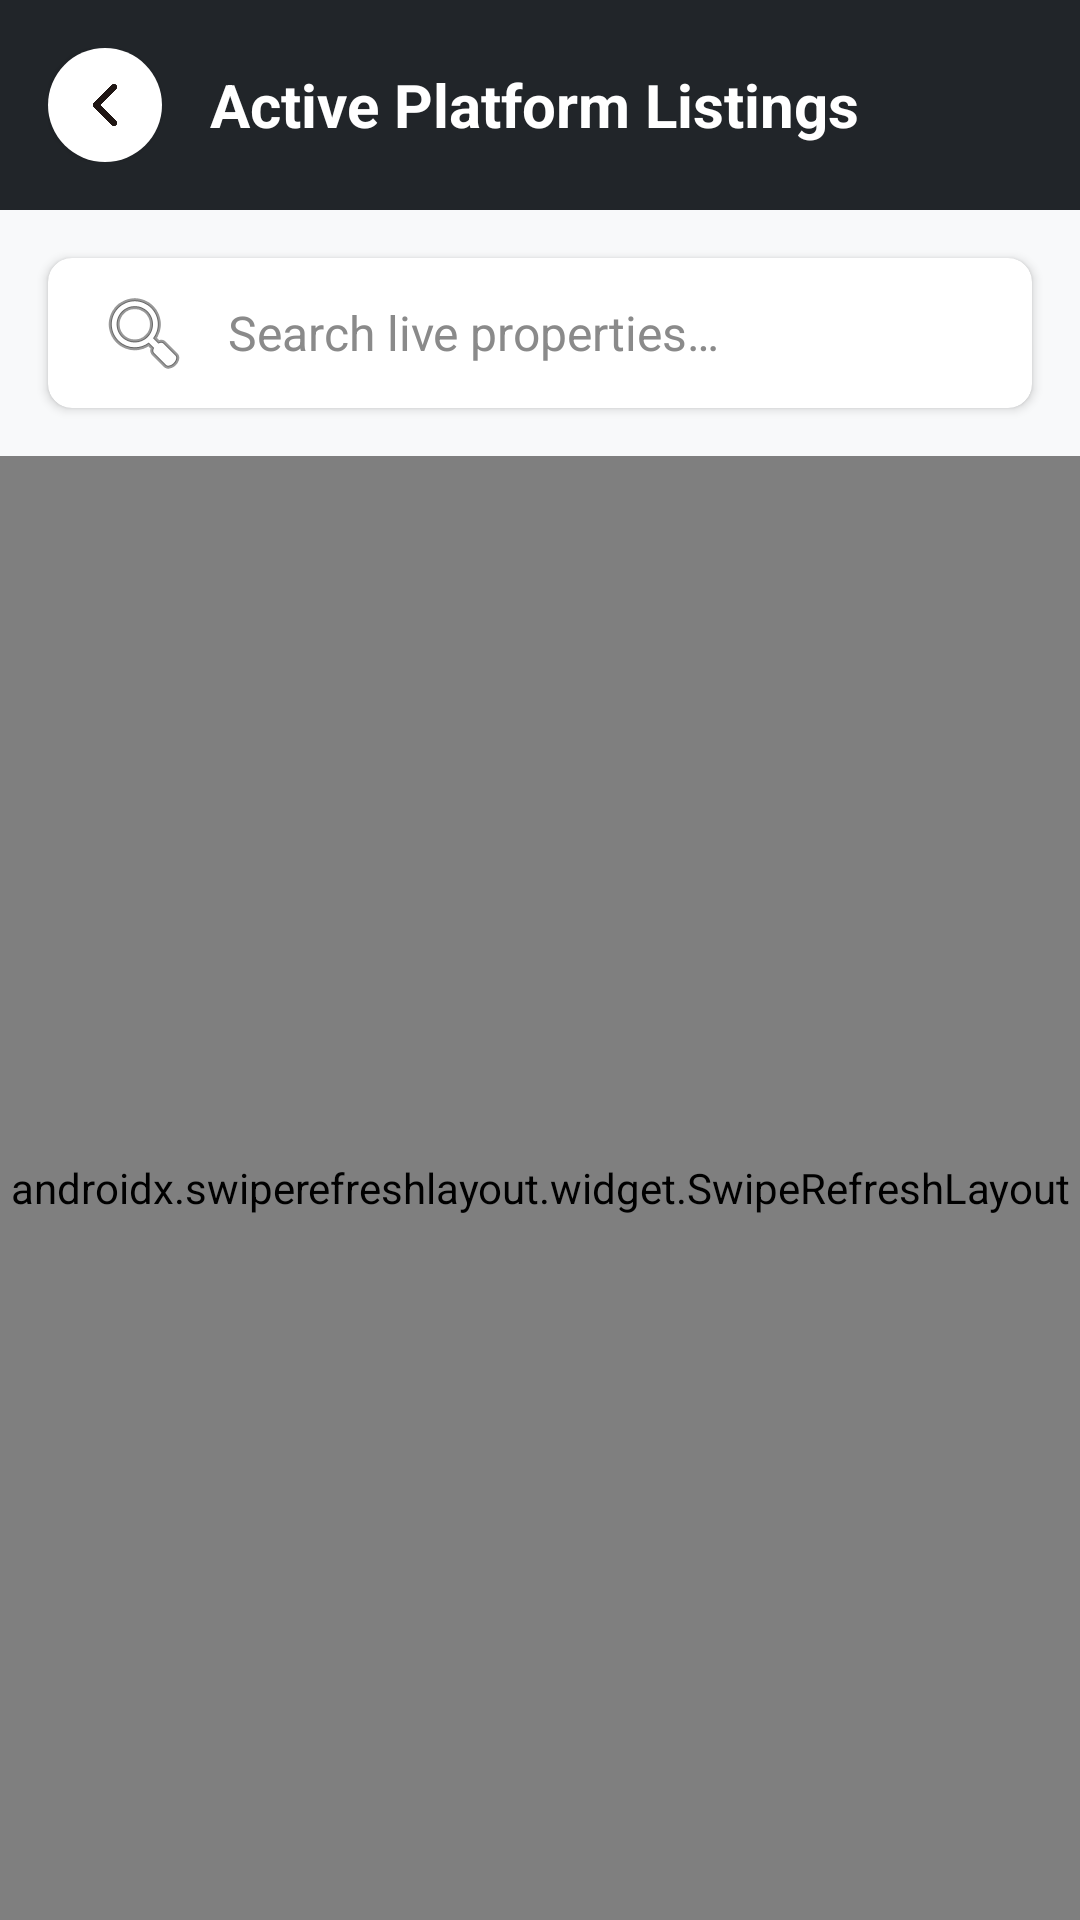

Where to tap for icons on this 1080×1920 app screen, as [x,y]:
Navigate Back: [105,105]
